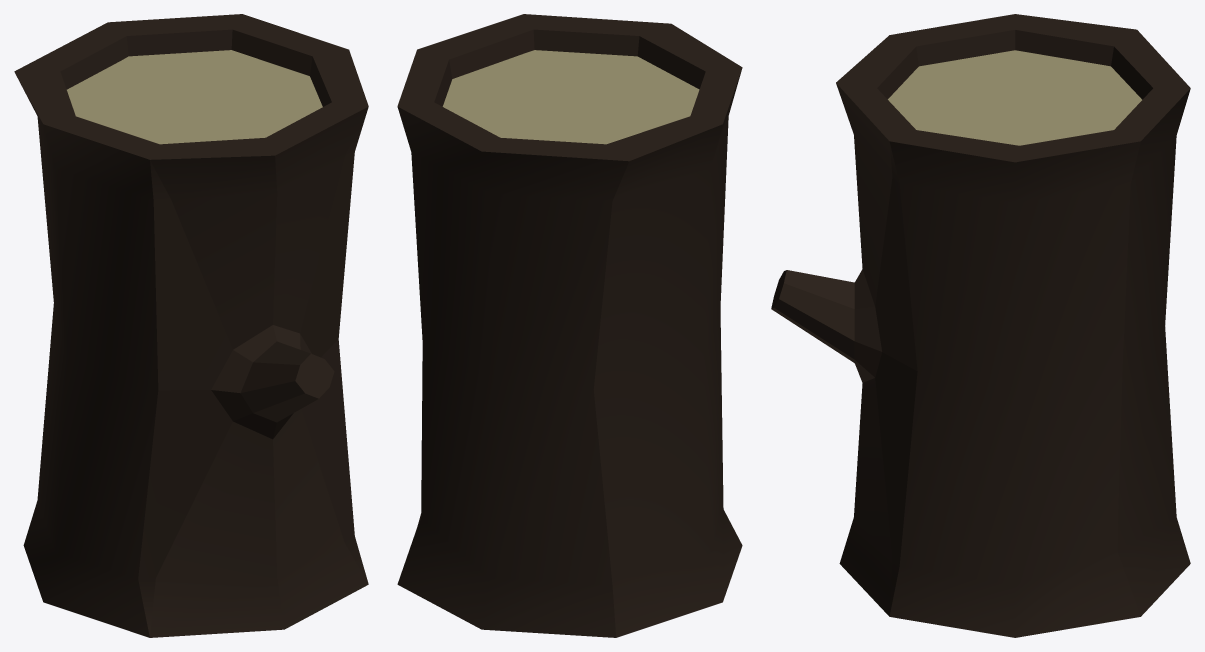
Rendered from trunk.fbx.
3 renders of one model, left to right at view 1: azimuth 30°, elevation 25°; view 2: azimuth 150°, elevation 25°; view 3: azimuth 270°, elevation 25°, orthographic.
Visible parts, largest first — view 1: pCube1, pCube2; view 2: pCube1, pCube2; view 3: pCube1, pCube2.
Part boxes in pixels (box(x1,y1,x2,y2)): pCube1: box(14, 14, 368, 637); pCube2: box(67, 50, 322, 144); pCube1: box(397, 14, 742, 637); pCube2: box(442, 50, 699, 144); pCube1: box(771, 14, 1190, 637); pCube2: box(888, 50, 1141, 145).
Bounding box in the file's own units: 1.17 × 1.75 × 1.4.
